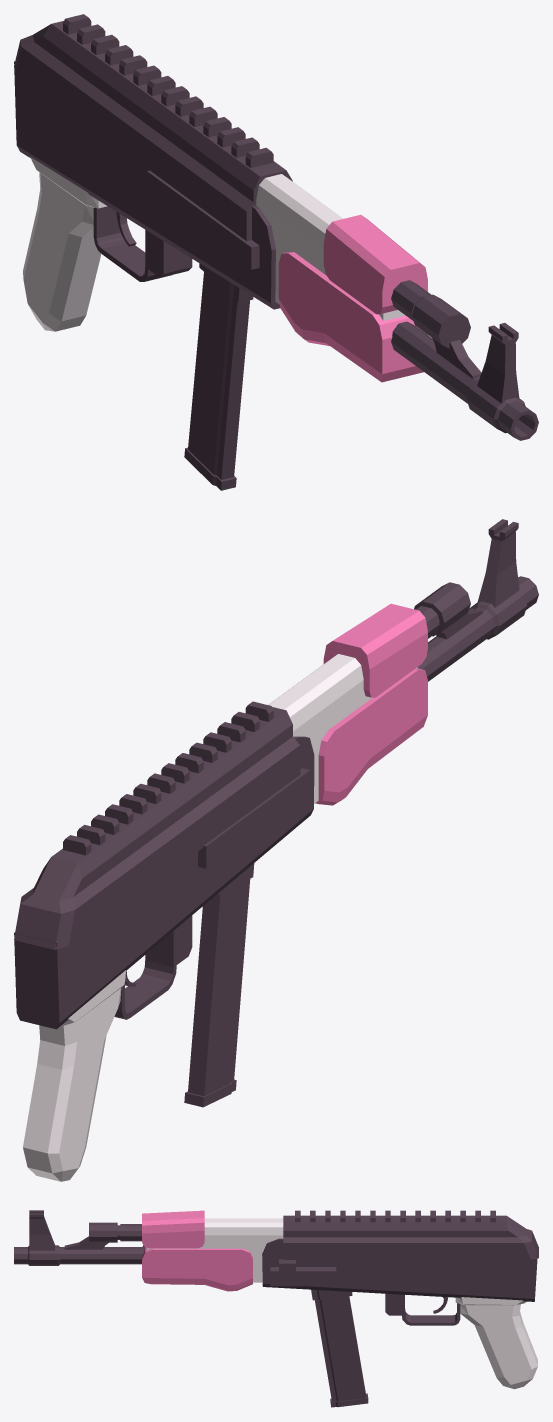
Rendered from AssaultRifle_1.obj.
3 views of the same model, one above another, from view 1: azimuth 30°, elevation 25°; view 2: azimuth 150°, elevation 25°; view 3: azimuth 270°, elevation 25° (orthographic). The views are drawn at different scales.
Parts seen in each view (by area): view 1: Hardware, Grip, Body, Mag, Bolt; view 2: Hardware, Body, Grip, Mag, Bolt; view 3: Hardware, Body, Grip, Mag.
Boxes of the visible parts, x1,y1,x2,y2 form: Hardware: [14, 14, 538, 440]; Grip: [278, 214, 427, 382]; Body: [23, 157, 405, 331]; Mag: [184, 263, 253, 490]; Bolt: [147, 170, 259, 269]; Hardware: [14, 519, 538, 1029]; Body: [23, 654, 417, 1181]; Grip: [315, 603, 427, 805]; Mag: [184, 863, 254, 1107]; Bolt: [198, 768, 310, 868]; Hardware: [14, 1210, 538, 1325]; Body: [147, 1218, 537, 1389]; Grip: [142, 1210, 252, 1291]; Mag: [311, 1289, 368, 1407].
Size of the model in its own units: 0.4428 by 2.23 by 5.5.
